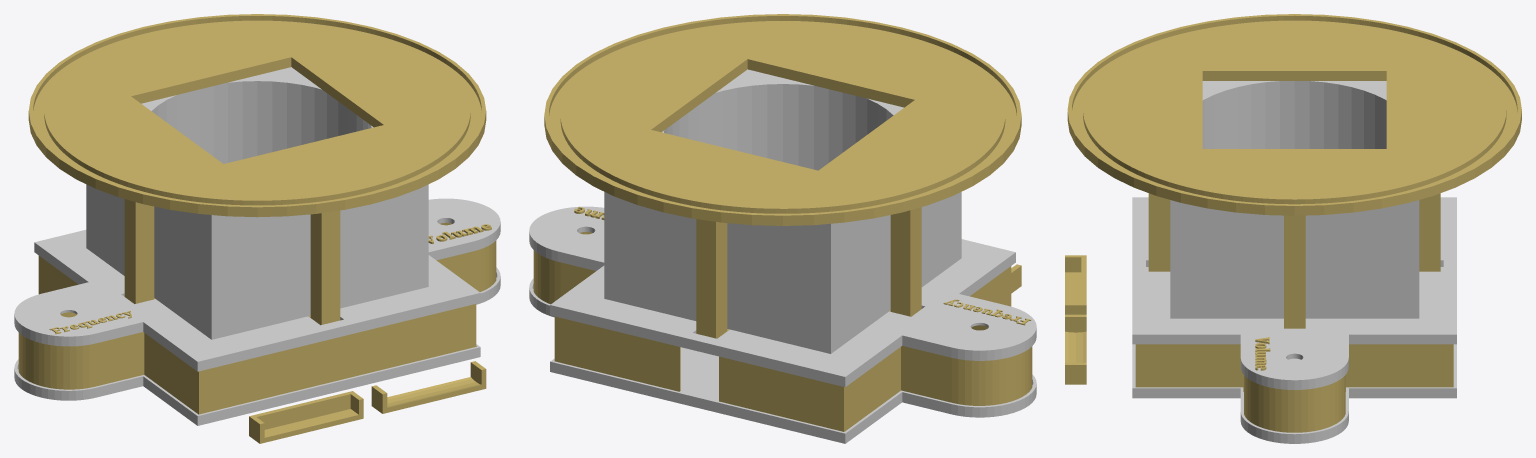
The model's file is Chladni.glb.
3 views of the same model, side by side, from view 1: azimuth 30°, elevation 25°; view 2: azimuth 150°, elevation 25°; view 3: azimuth 270°, elevation 25° (orthographic). The views are drawn at different scales.
Visible parts, largest first — view 1: Mesh_Mesh_head_geo.001_lambert2SG.001; view 2: Mesh_Mesh_head_geo.001_lambert2SG.001; view 3: Mesh_Mesh_head_geo.001_lambert2SG.001.
Part boxes in pixels (x1,y1,x2,y2): Mesh_Mesh_head_geo.001_lambert2SG.001: (14, 14, 500, 443); Mesh_Mesh_head_geo.001_lambert2SG.001: (529, 14, 1036, 443); Mesh_Mesh_head_geo.001_lambert2SG.001: (1065, 14, 1521, 443).
Size of the model in its own units: 0.25 by 0.112 by 0.2112.
